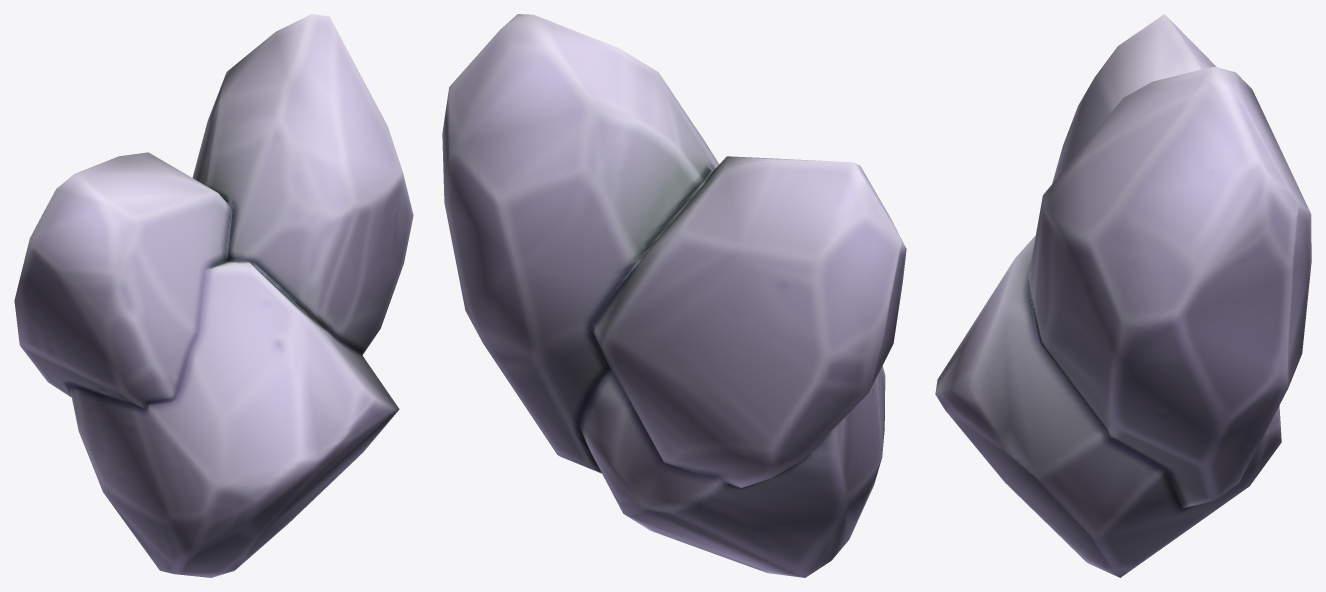
Rendered from SM_Gem_Diamond_007.fbx.
3 views of the same model, side by side, from view 1: azimuth 30°, elevation 25°; view 2: azimuth 150°, elevation 25°; view 3: azimuth 270°, elevation 25° (orthographic). The views are drawn at different scales.
Visible parts, largest first — view 1: SM_Gem_Diamond_007; view 2: SM_Gem_Diamond_007; view 3: SM_Gem_Diamond_007.
Boxes of the visible parts, x1,y1,x2,y2 form: SM_Gem_Diamond_007: (14,14,413,577); SM_Gem_Diamond_007: (442,14,906,577); SM_Gem_Diamond_007: (935,14,1311,577).
Size of the model in its own units: 23.36 by 28.93 by 17.14.
